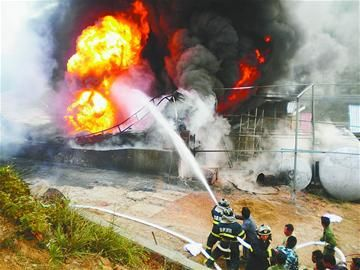fire: (58, 3, 282, 123)
